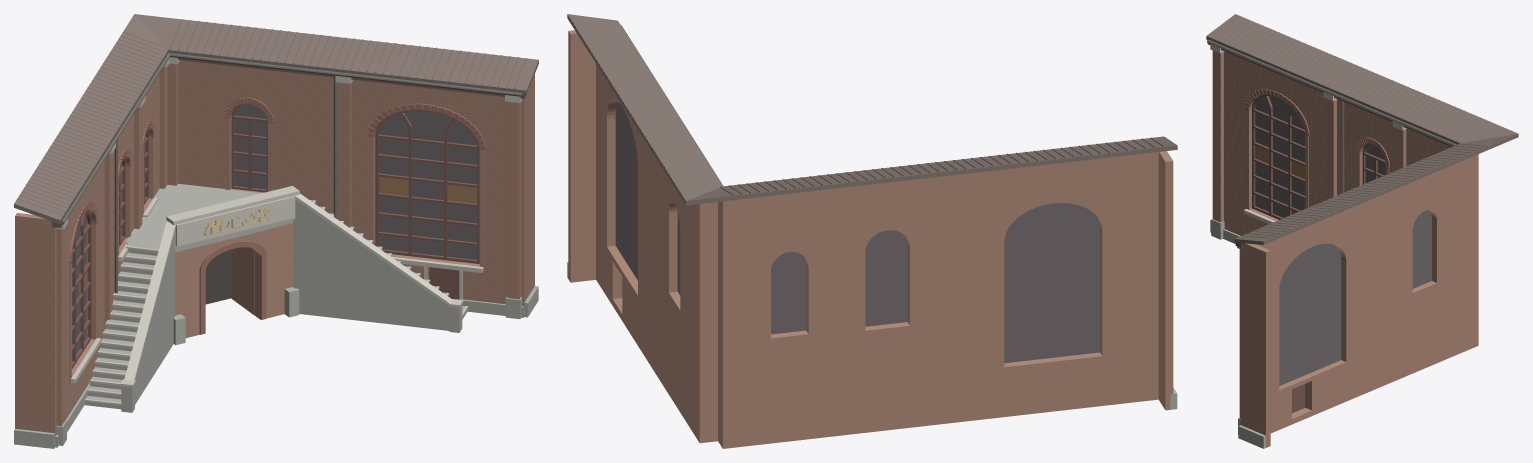
File: huangpu-pure-heart-church-raw.glb
The picture shows the model from 3 angles, left to right: view 1: azimuth 30°, elevation 25°; view 2: azimuth 150°, elevation 25°; view 3: azimuth 270°, elevation 25°; orthographic projection. The views are drawn at different scales.
Visible parts, largest first — view 1: 清心堂主堂东北内庭（两翼拱窗、双梯与中央门洞）; view 2: 清心堂主堂东北内庭（两翼拱窗、双梯与中央门洞）; view 3: 清心堂主堂东北内庭（两翼拱窗、双梯与中央门洞）.
Boxes of the visible parts, <box> form: 清心堂主堂东北内庭（两翼拱窗、双梯与中央门洞）: <box>14,14,538,448</box>; 清心堂主堂东北内庭（两翼拱窗、双梯与中央门洞）: <box>567,14,1177,448</box>; 清心堂主堂东北内庭（两翼拱窗、双梯与中央门洞）: <box>1206,14,1518,448</box>.
Size of the model in its own units: 18.41 by 7.85 by 10.68.
